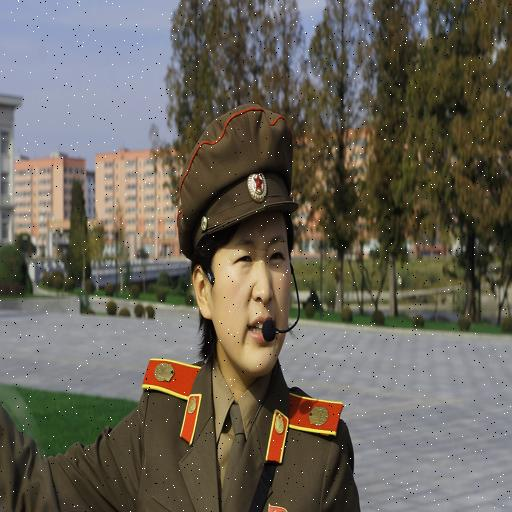north army: (6, 98, 404, 512)
